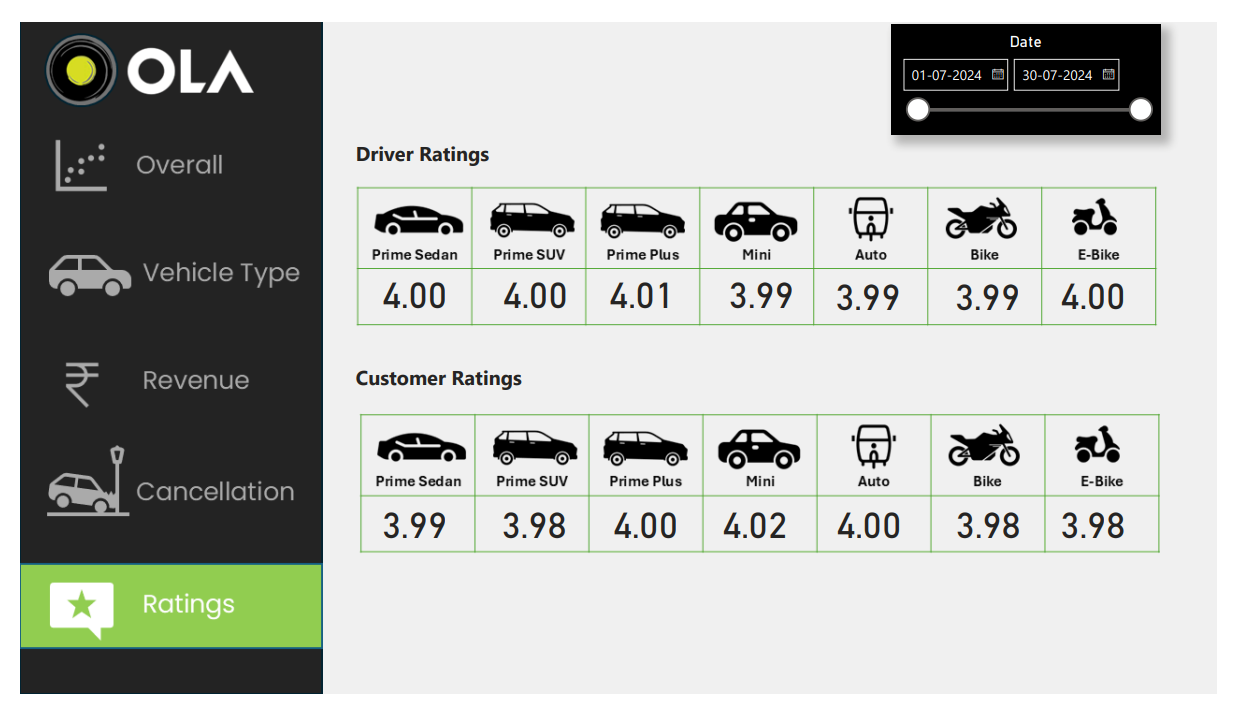

This screenshot's page, from the dashboard's own definition file:
{"tool":"powerbi","page":{"name":"Ratings","canvas":[1280,720],"ordinal":4},"visuals":[{"type":"actionButton","box":[0,220,325,91.7],"z":0},{"type":"actionButton","box":[0,333.3,325,91.7],"z":1000},{"type":"actionButton","box":[0,445,325,91.7],"z":2000},{"type":"actionButton","box":[1.7,103.3,325,91.7],"z":3000},{"type":"card","fields":{"Values":["Avg(July.Driver_Ratings)"]},"box":[368,264,112,54],"z":4000},{"type":"card","fields":{"Values":["Avg(July.Driver_Ratings)"]},"box":[496,264,114,54],"z":5000},{"type":"card","fields":{"Values":["Avg(July.Driver_Ratings)"]},"box":[610,264,114,54],"z":6000},{"type":"card","fields":{"Values":["Avg(July.Driver_Ratings)"]},"box":[738,264,114,54],"z":7000},{"type":"card","fields":{"Values":["Avg(July.Driver_Ratings)"]},"box":[852,266,114,54],"z":8000},{"type":"card","fields":{"Values":["Avg(July.Driver_Ratings)"]},"box":[980,266,114,54],"z":9000},{"type":"card","fields":{"Values":["Avg(July.Driver_Ratings)"]},"box":[1094,264,112,56],"z":10000},{"type":"textbox","box":[354,120,186,58],"z":11000},{"type":"textbox","box":[354,360,200,58],"z":12000},{"type":"card","fields":{"Values":["Avg(July.Customer_Rating)"]},"box":[368,510,112,54],"z":13000},{"type":"card","fields":{"Values":["Avg(July.Customer_Rating)"]},"box":[496,510,112,54],"z":14000},{"type":"card","fields":{"Values":["Avg(July.Customer_Rating)"]},"box":[1094,510,112,54],"z":15000},{"type":"card","fields":{"Values":["Avg(July.Customer_Rating)"]},"box":[982,510,112,54],"z":16000},{"type":"card","fields":{"Values":["Avg(July.Customer_Rating)"]},"box":[854,510,112,54],"z":17000},{"type":"card","fields":{"Values":["Avg(July.Customer_Rating)"]},"box":[732,510,112,54],"z":18000},{"type":"card","fields":{"Values":["Avg(July.Customer_Rating)"]},"box":[610,510,122,54],"z":19000},{"type":"slicer","title":"Date","fields":{"Values":["July.Date"]},"box":[932,2,288,118],"z":20000}]}

Visuals, with their boxes in screenshot pixels (x1, y1, x2, y2), scaled from the page's 1280x720 canvas onto the 1235x715 screenshot:
actionButton: x1=0, y1=218, x2=314, y2=310
actionButton: x1=0, y1=331, x2=314, y2=422
actionButton: x1=0, y1=442, x2=314, y2=533
actionButton: x1=2, y1=103, x2=315, y2=194
card - Avg(July.Driver_Ratings): x1=355, y1=262, x2=463, y2=316
card - Avg(July.Driver_Ratings): x1=479, y1=262, x2=589, y2=316
card - Avg(July.Driver_Ratings): x1=589, y1=262, x2=699, y2=316
card - Avg(July.Driver_Ratings): x1=712, y1=262, x2=822, y2=316
card - Avg(July.Driver_Ratings): x1=822, y1=264, x2=932, y2=318
card - Avg(July.Driver_Ratings): x1=946, y1=264, x2=1056, y2=318
card - Avg(July.Driver_Ratings): x1=1056, y1=262, x2=1164, y2=318
textbox: x1=342, y1=119, x2=521, y2=177
textbox: x1=342, y1=358, x2=535, y2=415
card - Avg(July.Customer_Rating): x1=355, y1=506, x2=463, y2=560
card - Avg(July.Customer_Rating): x1=479, y1=506, x2=587, y2=560
card - Avg(July.Customer_Rating): x1=1056, y1=506, x2=1164, y2=560
card - Avg(July.Customer_Rating): x1=947, y1=506, x2=1056, y2=560
card - Avg(July.Customer_Rating): x1=824, y1=506, x2=932, y2=560
card - Avg(July.Customer_Rating): x1=706, y1=506, x2=814, y2=560
card - Avg(July.Customer_Rating): x1=589, y1=506, x2=706, y2=560
"Date" slicer: x1=899, y1=2, x2=1177, y2=119
